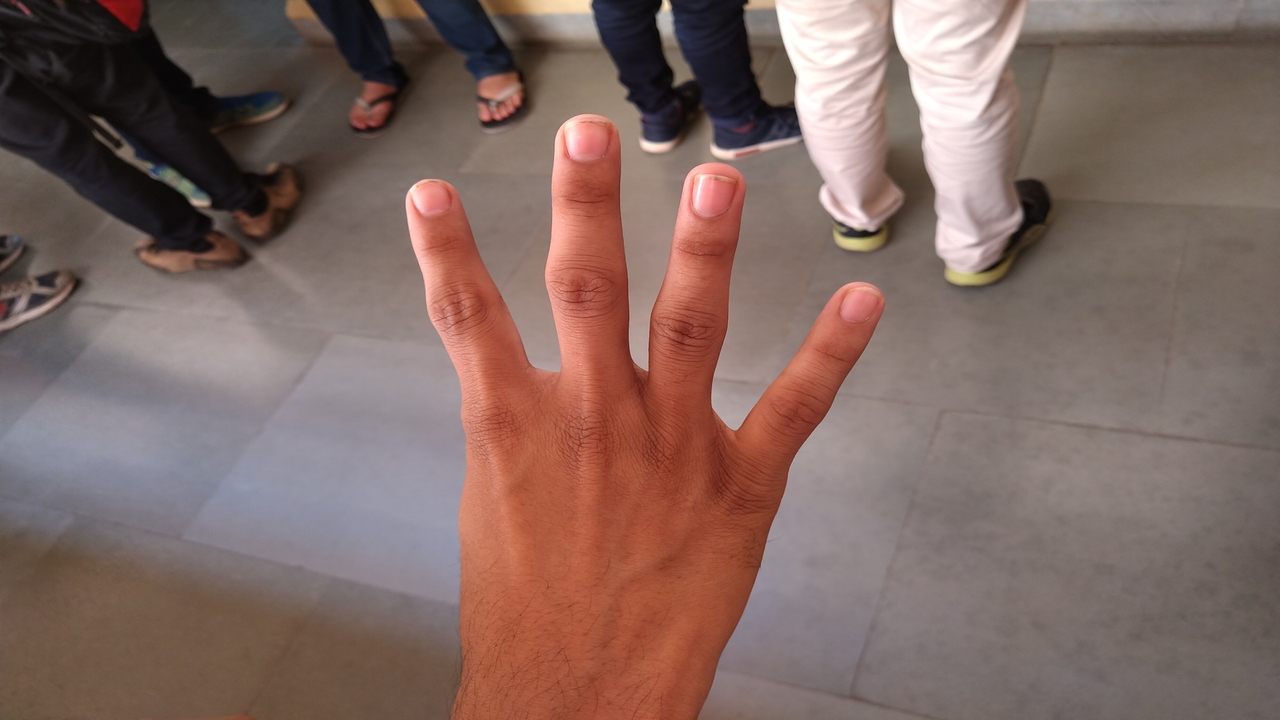fingertip: (676, 148, 750, 224), (548, 104, 622, 176), (392, 166, 466, 234), (828, 274, 896, 334)
